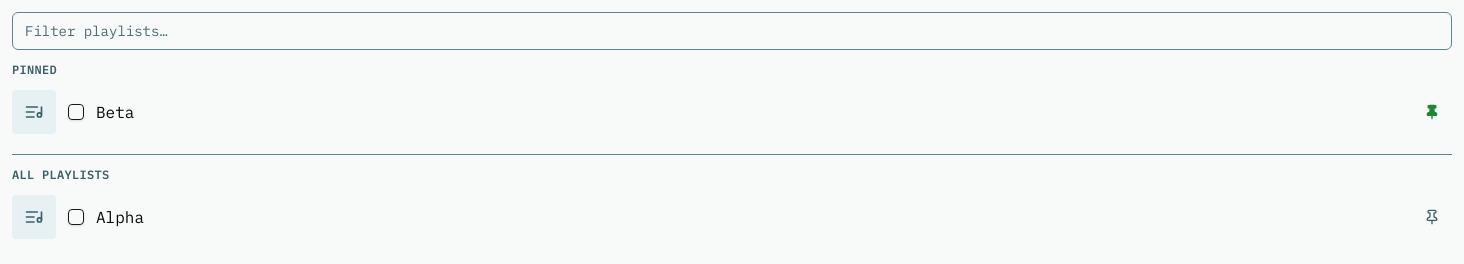
Test: PlaylistList › narrows the visible rows to those matching the filter text
Expected: the number of list items is 2, [12,82,1452,142]; [12,187,1452,247]
Type "alph" into the field labelled "Filter playlists" at (732, 31), box [12,12,1452,50]
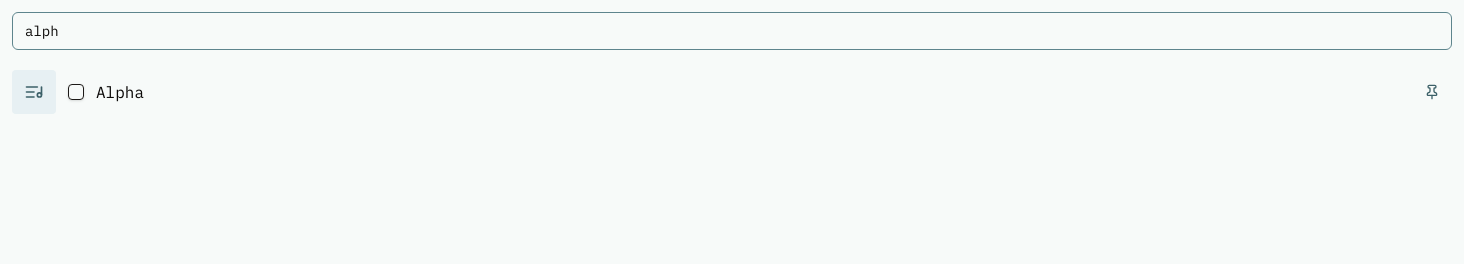
Expected: the list item reads "Alpha", [96,82,144,102]
Expected: the number of list items is 1, [12,62,1452,122]
Expected: the text "Beta" is gone
